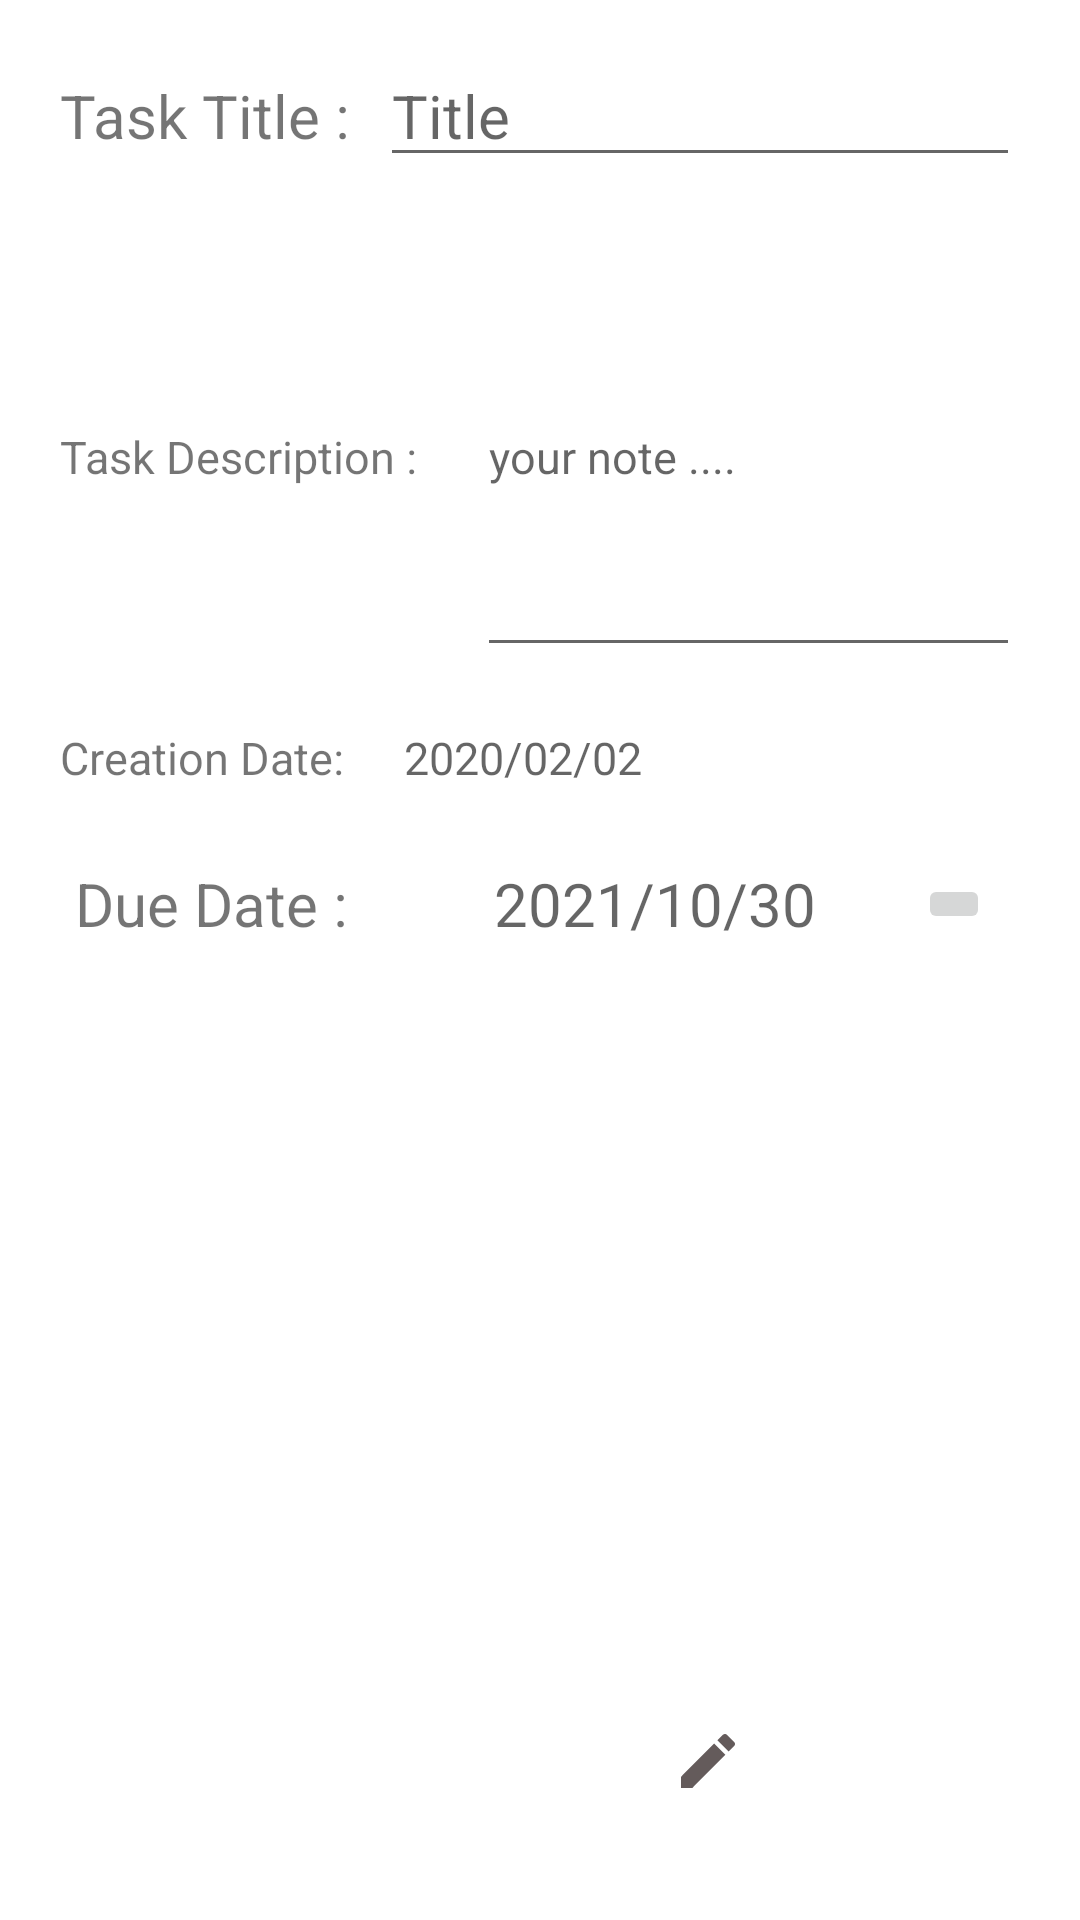

Named icons in this screenshot (1080 x 1920) and their bounding boxes, (x1, y1, x2, y2):
edit: (681, 1734, 735, 1788)
